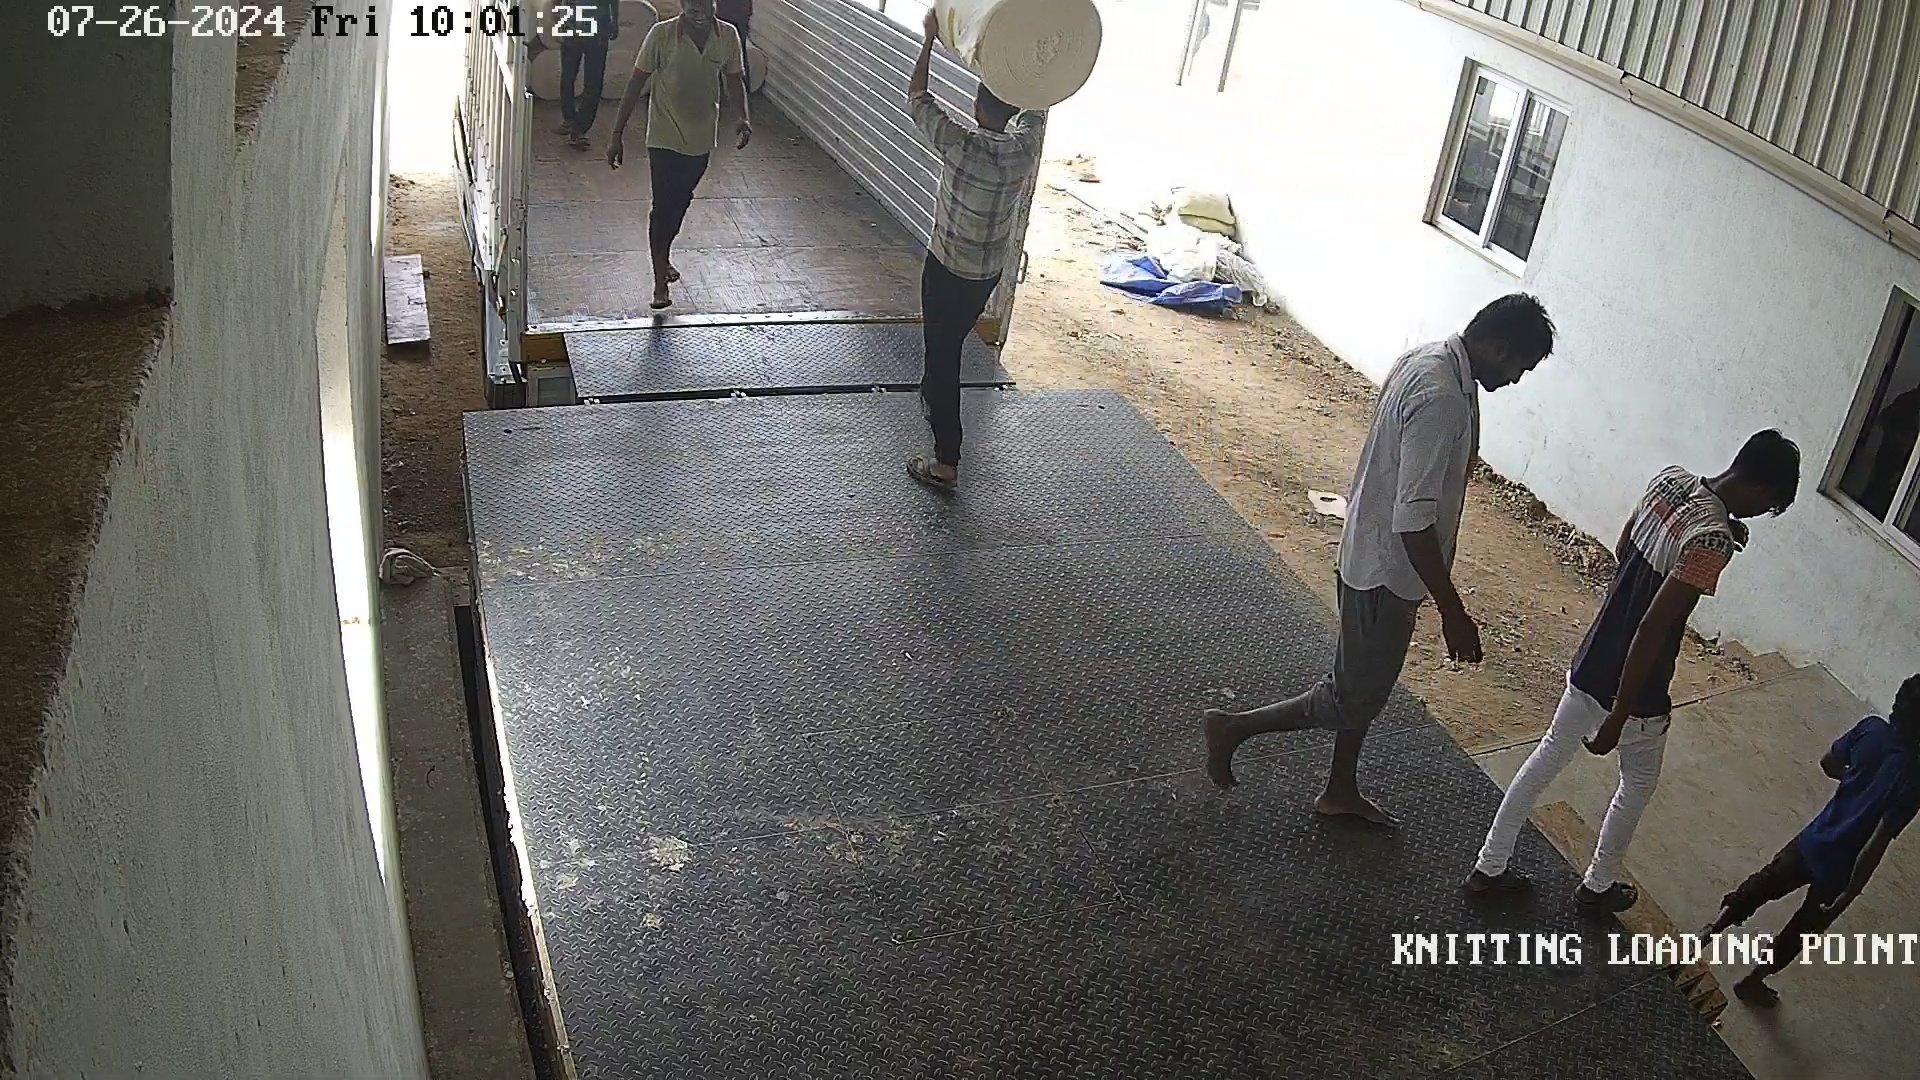bag: (898, 1, 1120, 116)
